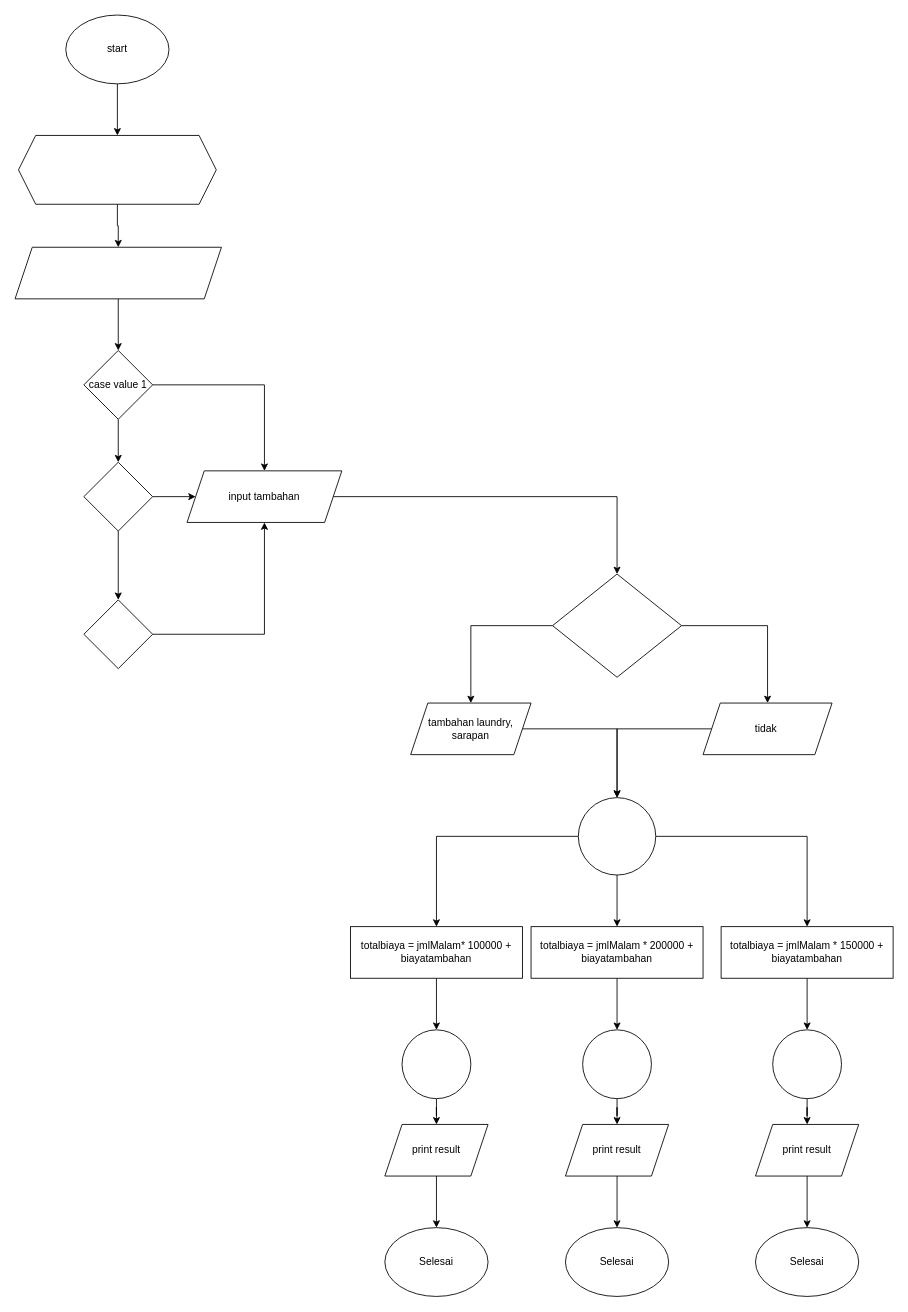
The diagram is 908 pixels wide and 1312 high, and some of its shapes have lost their labels. Here are the shapes that lost their labels. From the top down, the box of each, then its label:
(18, 135, 216, 204): int hargaPermalam, jmlMalam, biayaTambahan, totalbiaya,biayatambahan
(14, 246, 221, 299): input tipe kamar
(83, 461, 153, 531): case value 2
(83, 599, 153, 669): case value 3
(552, 573, 682, 677): ingin tambahan?
